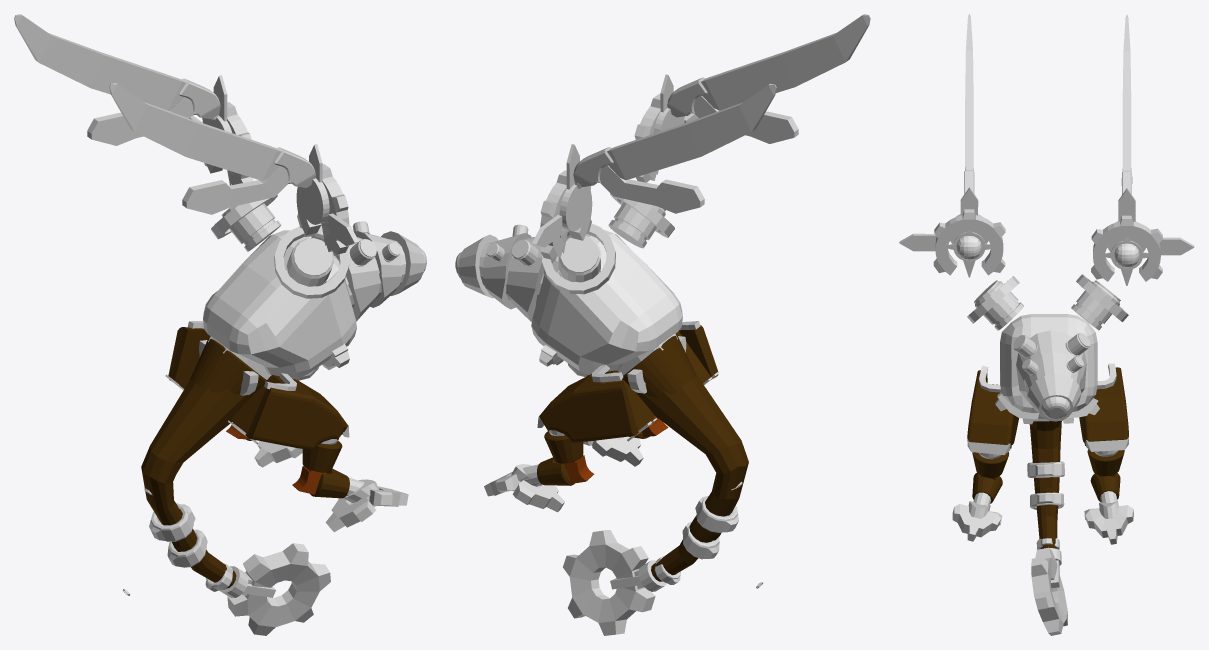
The model's file is Ruin drake model 26 daimy fbx.fbx.
3 views of the same model, side by side, from view 1: azimuth 30°, elevation 25°; view 2: azimuth 150°, elevation 25°; view 3: azimuth 270°, elevation 25° (orthographic). The views are drawn at different scales.
Visible parts, largest first — view 1: Roundcube, tail, Cube.022, Cube.004, Thigh.L, Cylinder.005, Cube.023, lowerbodu, Cylinder.019, Cylinder.023, Cylinder.021, Cylinder.013 (+18 smaller); view 2: Roundcube, tail, Cube.004, Cube.022, Cylinder.005, Thigh.R, Cube.003, lowerbodu, Cylinder.021, Cylinder.014, Cylinder.018, Cylinder.002 (+17 smaller); view 3: Roundcube, tail, Cylinder.013, Cylinder.002, Thigh.L, Thigh.R, Cylinder.005, Cylinder.022, Cylinder.021, Cube.004, Cube.022, Cylinder.023 (+23 smaller).
Boxes of the visible parts, x1,y1,x2,y2 form: Roundcube: [203, 230, 356, 379]; tail: [141, 380, 250, 588]; Cube.022: [109, 83, 281, 180]; Cube.004: [14, 14, 185, 110]; Thigh.L: [232, 375, 348, 450]; Cylinder.005: [227, 543, 330, 635]; Cube.023: [182, 166, 288, 214]; lowerbodu: [190, 338, 266, 396]; Cylinder.019: [274, 226, 349, 298]; Cylinder.023: [285, 238, 333, 286]; Cylinder.021: [311, 236, 379, 321]; Cylinder.013: [296, 164, 349, 254]; Roundcube: [531, 229, 682, 374]; tail: [640, 372, 748, 581]; Cube.004: [607, 83, 776, 180]; Cube.022: [701, 14, 870, 110]; Cylinder.005: [563, 530, 655, 635]; Thigh.R: [539, 370, 653, 442]; Cube.003: [600, 165, 704, 213]; lowerbodu: [622, 334, 696, 398]; Cylinder.021: [507, 235, 570, 321]; Cylinder.014: [558, 236, 600, 282]; Cylinder.018: [542, 223, 615, 294]; Cylinder.002: [540, 170, 592, 259]; Roundcube: [1000, 314, 1097, 413]; tail: [1029, 421, 1061, 548]; Cylinder.013: [933, 209, 1005, 275]; Cylinder.002: [1091, 215, 1162, 281]; Thigh.L: [967, 370, 1018, 448]; Thigh.R: [1079, 367, 1128, 445]; Cylinder.005: [1031, 547, 1067, 635]; Cylinder.022: [1027, 374, 1081, 421]; Cylinder.021: [1016, 330, 1086, 401]; Cube.004: [1122, 15, 1131, 170]; Cube.022: [965, 14, 973, 170]; Cylinder.023: [974, 280, 1023, 330].
Size of the model in its own units: 754 by 1262 by 637.
